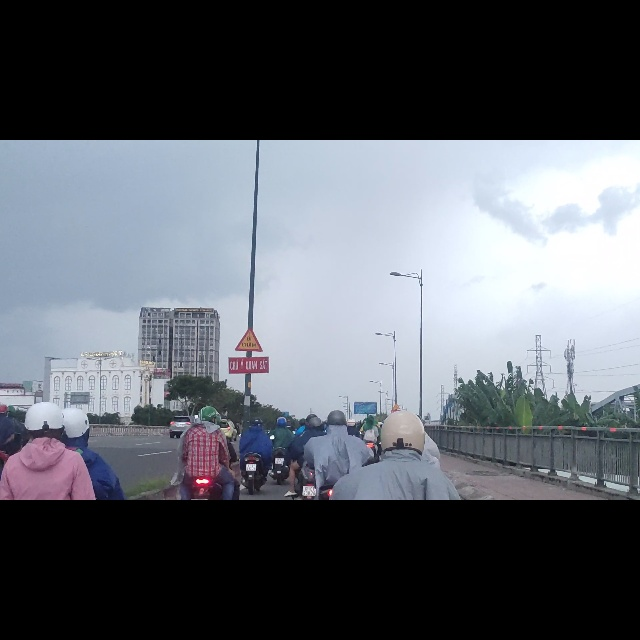bien_cam: (235, 333, 263, 377)
